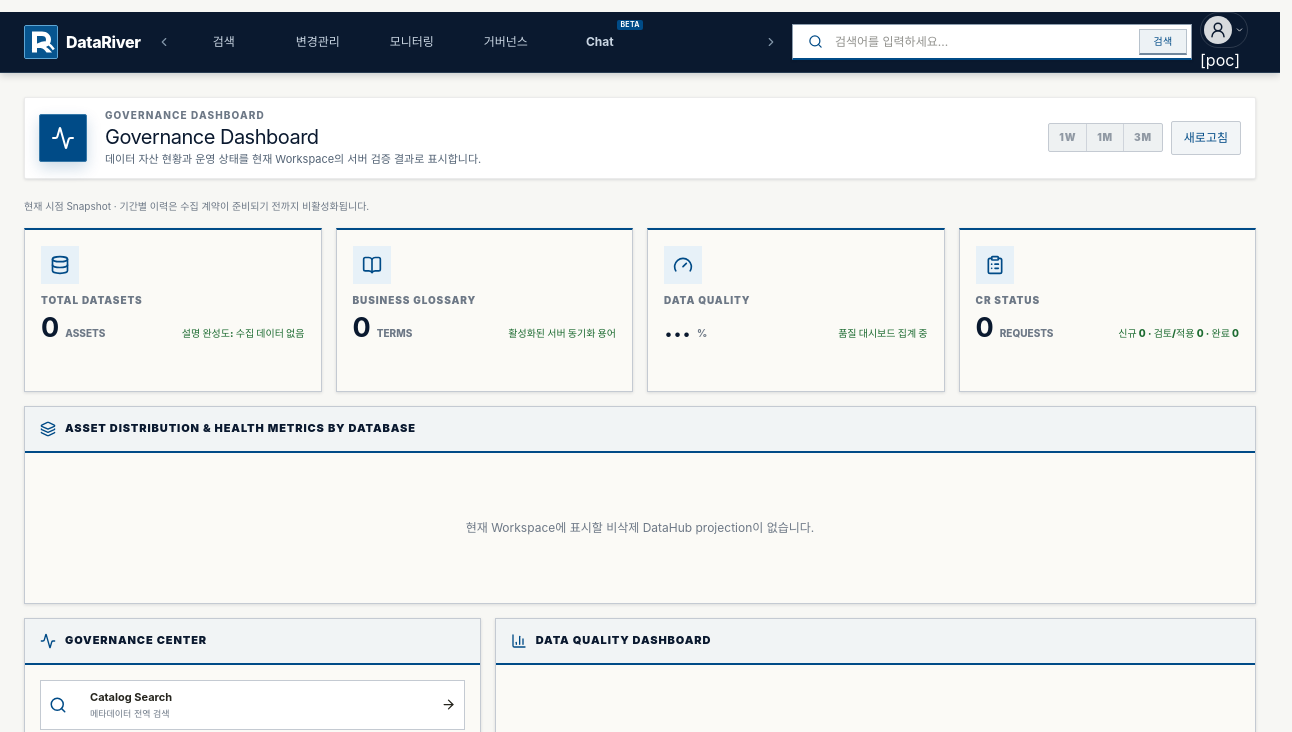
Test: POC compatibility application › keeps the original catalog workspace without showing fixture metadata
This screenshot has width=1292, height=732.
Click the 1st button "검색" at (224, 42), box [177, 14, 271, 70]
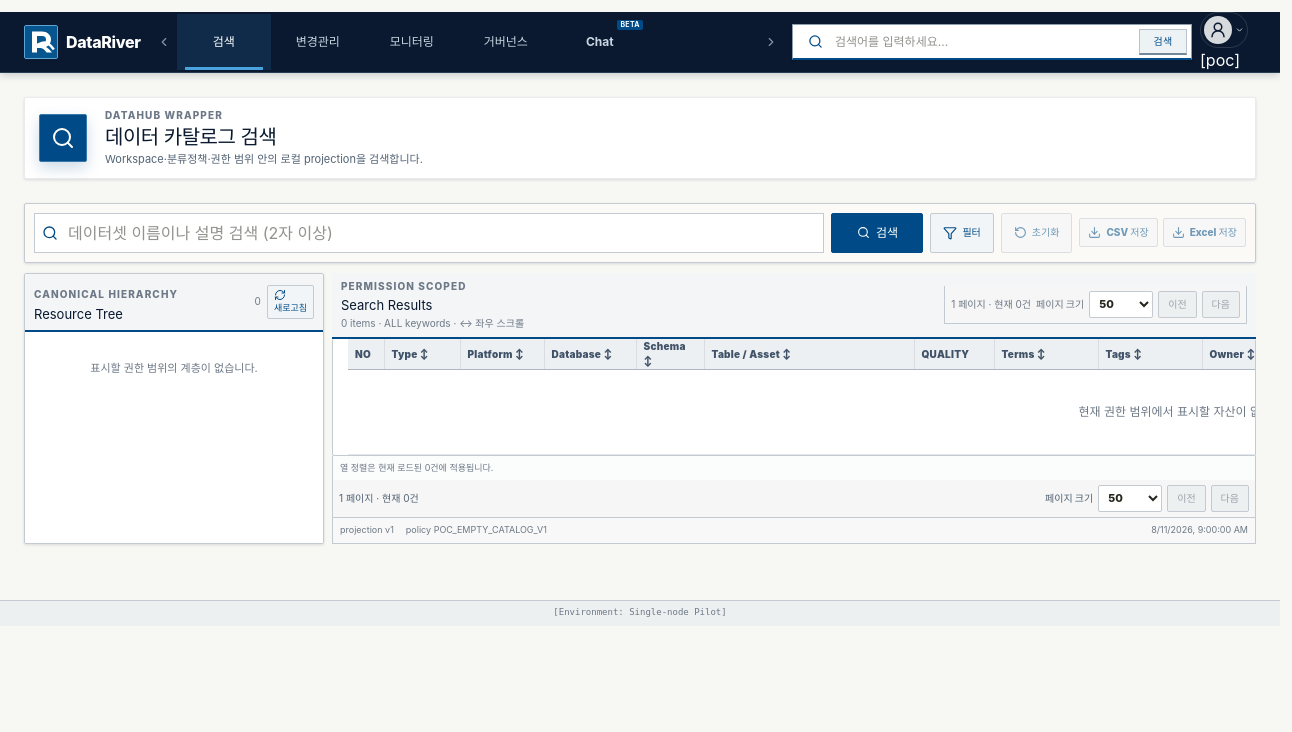
Expected: the heading "데이터 카탈로그 검색" is shown, [105, 125, 276, 149]
Expected: the text "현재 권한 범위에서 표시할 자산이 없습니다." is shown, [1078, 404, 1256, 419]
Type "yield" into the dropdown labelled "데이터셋 이름이나 설명 검색" at (441, 232), box [59, 214, 823, 252]
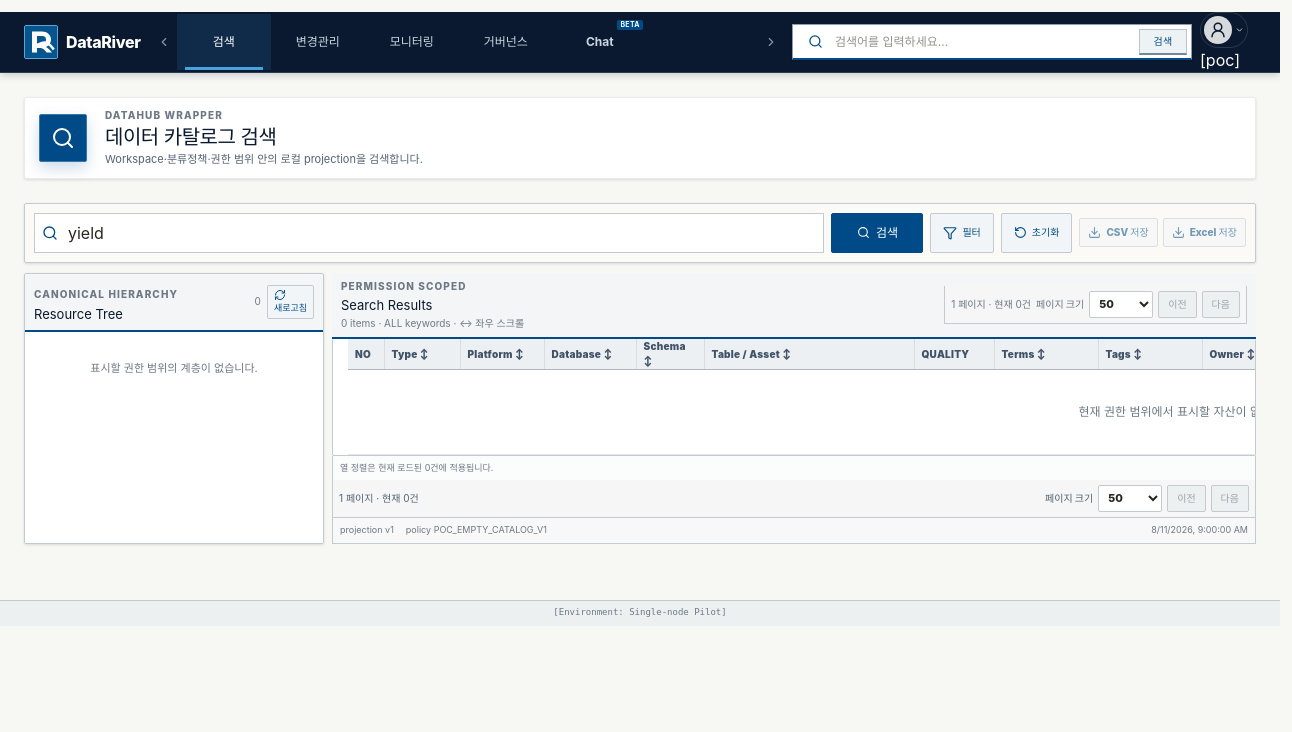
Submit the form named "카탈로그 상세 검색", box [34, 212, 923, 252]
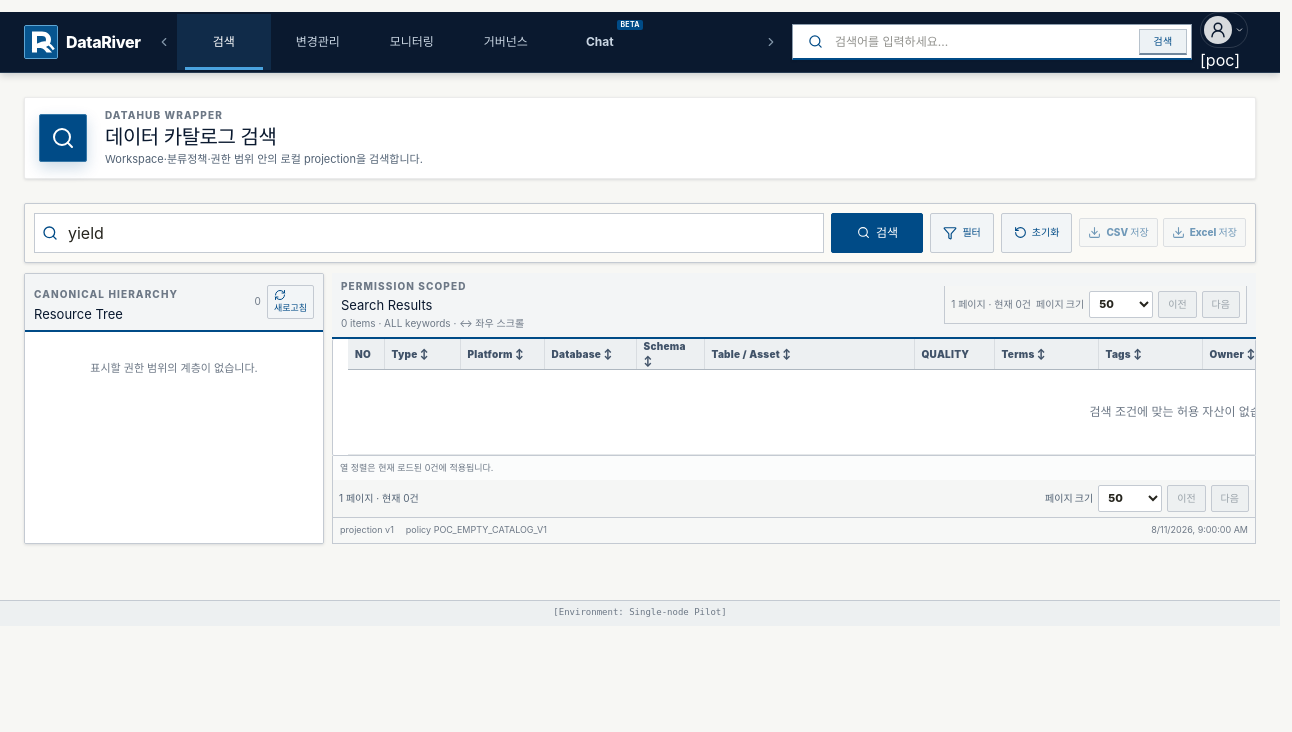
Expected: the text "검색 조건에 맞는 허용 자산이 없습니다." is shown, [1090, 404, 1256, 419]
